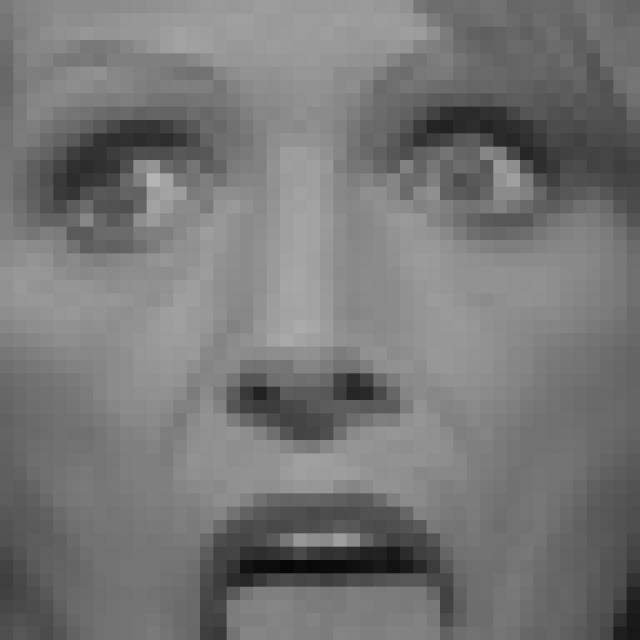fear: (0, 33, 576, 640)
